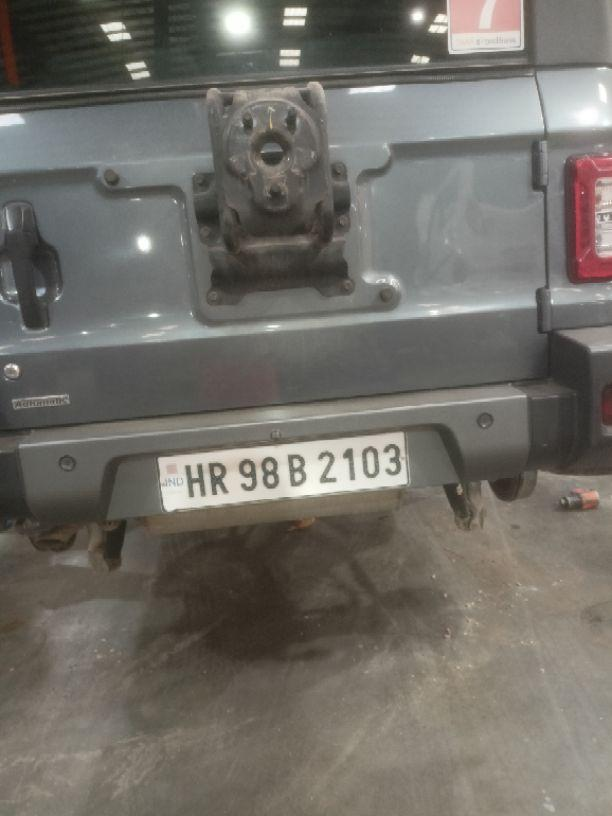license_plate: (154, 428, 411, 513)
